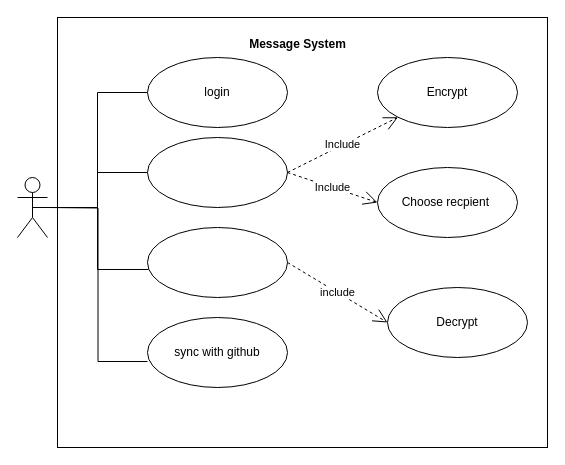
The diagram is 565 pixels wide and 465 high, and some of its shapes have lost their labels. The shapes that lost their labels are listed below. From the top down, each one's centre as x and y in pixels, then its label:
At (217,172): "send msg".
At (32,207): "User".
At (217,262): "recieve msg".
